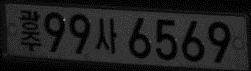5: (155, 18, 177, 61)
6: (128, 17, 151, 59), (181, 20, 204, 62)
9: (207, 21, 231, 63), (68, 12, 91, 54), (43, 12, 66, 53)
광주_V: (19, 9, 41, 52)
사: (95, 17, 117, 54)
